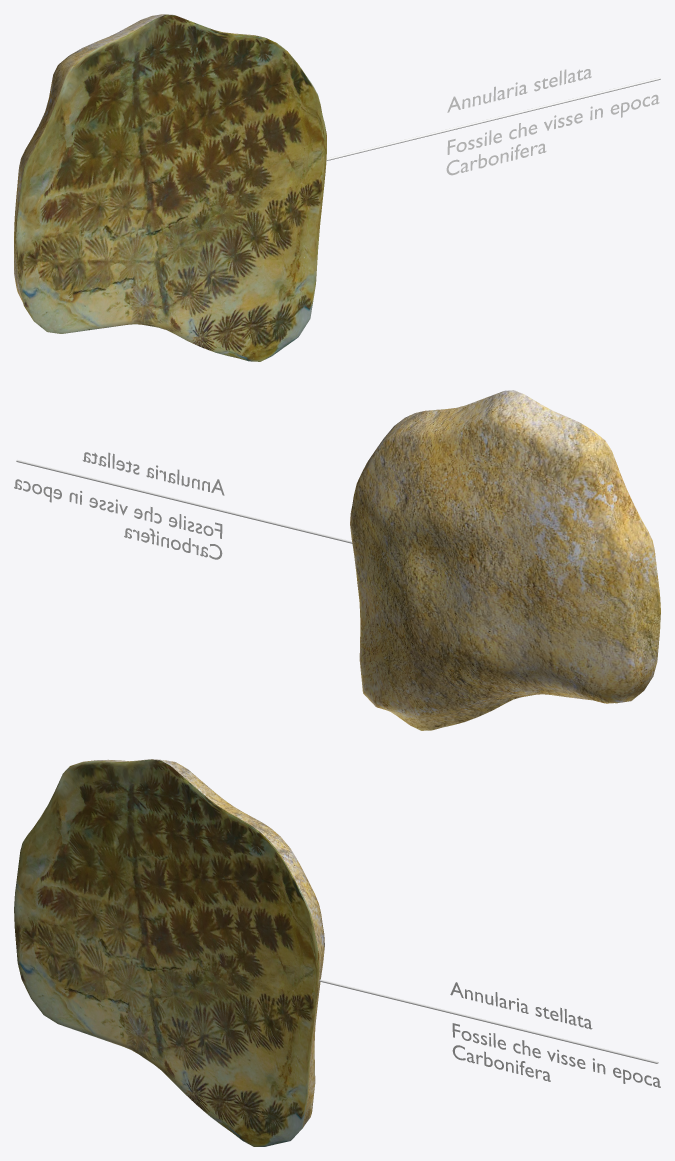
Rendered from Annularia.gltf.
3 views of the same model, one above another, from view 1: azimuth 30°, elevation 25°; view 2: azimuth 150°, elevation 25°; view 3: azimuth 330°, elevation 25° (orthographic).
Visible parts, largest first — view 1: Superficie_di_Suddivisione_2, Text, riga; view 2: Superficie_di_Suddivisione_2, Text, riga; view 3: Superficie_di_Suddivisione_2, Text, riga.
Boxes of the visible parts, x1,y1,x2,y2 form: Superficie_di_Suddivisione_2: [14, 14, 326, 361]; Text: [446, 69, 659, 175]; riga: [326, 77, 660, 160]; Superficie_di_Suddivisione_2: [350, 390, 660, 730]; Text: [14, 452, 224, 559]; riga: [16, 459, 352, 543]; Superficie_di_Suddivisione_2: [14, 759, 324, 1146]; Text: [450, 982, 660, 1087]; riga: [319, 979, 658, 1063].
Size of the model in its own units: 6.25 by 3.4 by 0.5915.
2 materials, 1 textured.
